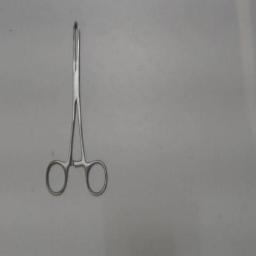Allis Tissue Forceps: (41, 10, 113, 202)
